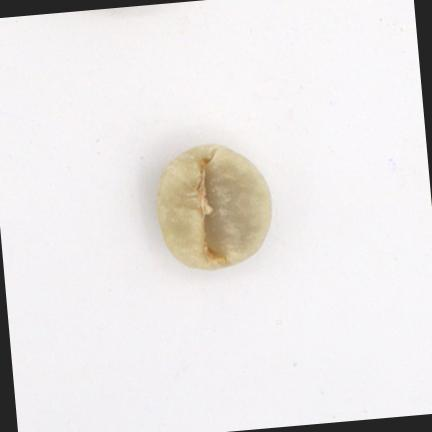immature: (158, 144, 272, 269)
